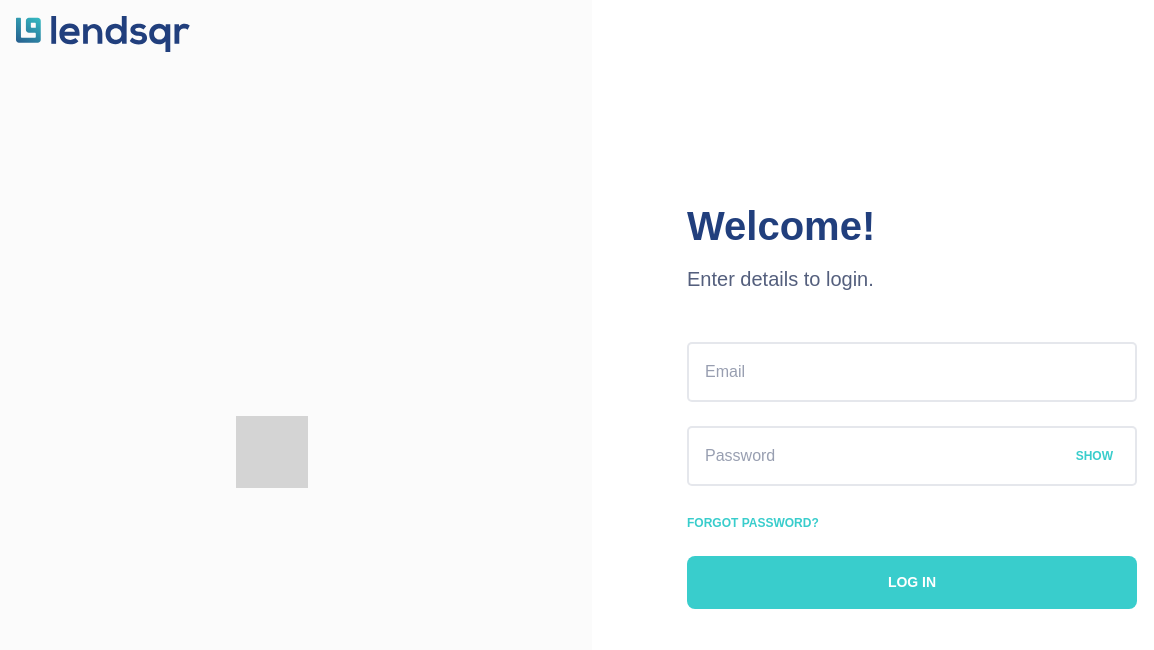
Scenario: LoginPage › shows validation errors for empty form submission
Click the button "LOG IN": (912, 582) [687,556,1137,608]
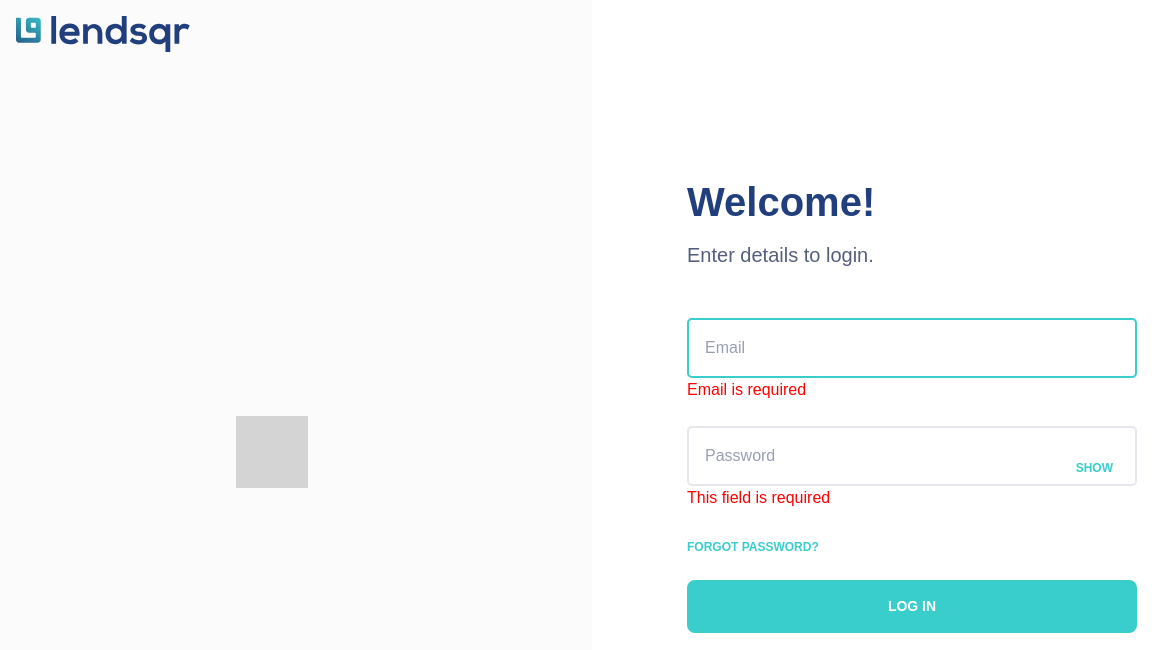
expect the text "Email is required" is shown: met, box [687,380,806,398]
expect the text "This field is required" is shown: met, box [687,488,830,506]
